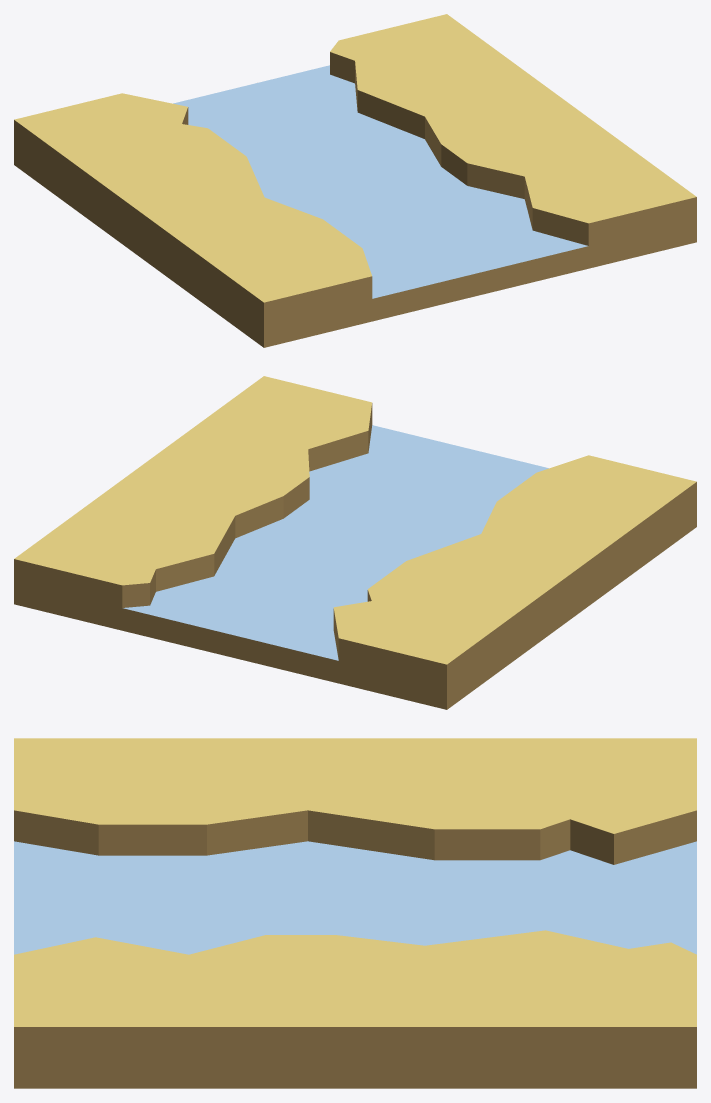
The model's file is Terrain_Modular_Tiles_Sand_Dirt_River_Straight_01.fbx.
The picture shows the model from 3 angles, top to bottom: view 1: azimuth 30°, elevation 25°; view 2: azimuth 150°, elevation 25°; view 3: azimuth 270°, elevation 25°; orthographic projection. The views are drawn at different scales.
Visible parts, largest first — view 1: Terrain_Modular_Tiles_Sand_Dirt_River_Straight_01; view 2: Terrain_Modular_Tiles_Sand_Dirt_River_Straight_01; view 3: Terrain_Modular_Tiles_Sand_Dirt_River_Straight_01.
Part boxes in pixels (x1,y1,x2,y2): Terrain_Modular_Tiles_Sand_Dirt_River_Straight_01: (14,14,696,347); Terrain_Modular_Tiles_Sand_Dirt_River_Straight_01: (14,376,696,709); Terrain_Modular_Tiles_Sand_Dirt_River_Straight_01: (14,738,696,1088).
Bounding box in the file's own units: 118 × 11.81 × 118.
